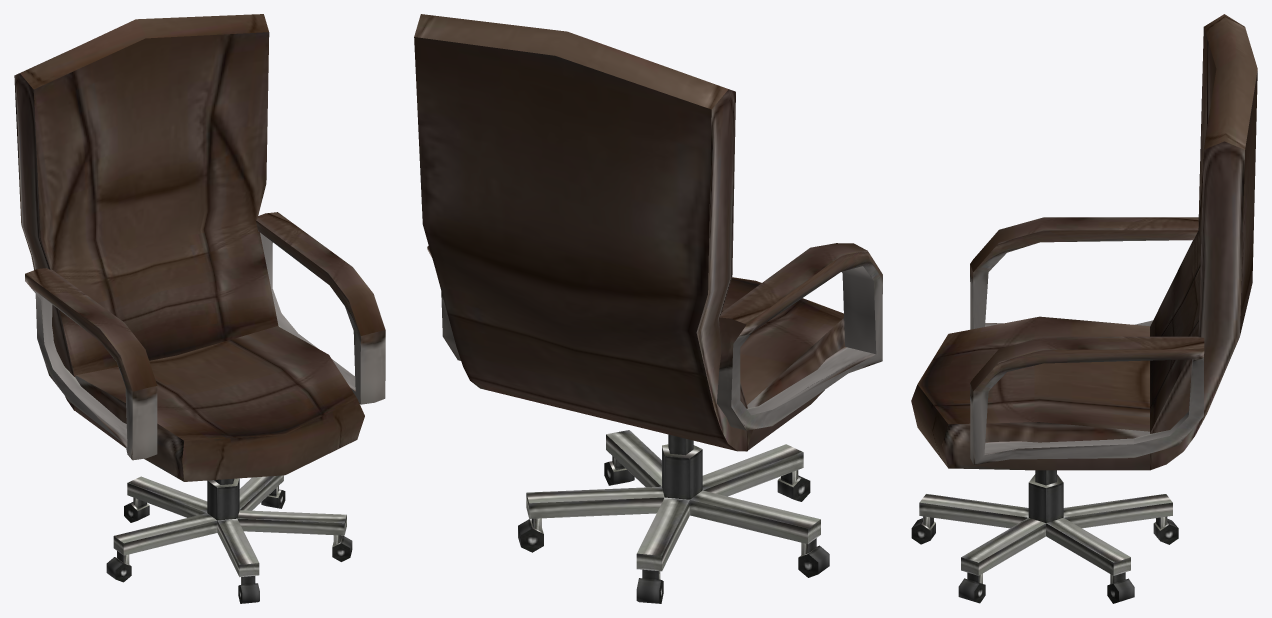
The model's file is Office Chair 2_lod1.fbx.
3 renders of one model, left to right at view 1: azimuth 30°, elevation 25°; view 2: azimuth 150°, elevation 25°; view 3: azimuth 270°, elevation 25°, orthographic. The views are drawn at different scales.
Parts seen in each view (by area): view 1: Chair_Back, Chair_Seat, Left_Arm_Rest, Chair_Stand, Right_Arm_Rest, Wheel4, Wheel5; view 2: Chair_Back, Chair_Stand, Left_Arm_Rest, Chair_Seat, Wheel4, Wheel1, Wheel5, Wheel2; view 3: Chair_Back, Chair_Seat, Right_Arm_Rest, Chair_Stand, Left_Arm_Rest, Wheel2, Wheel3, Wheel1, Wheel5.
Part boxes in pixels (bbox=[...]): Chair_Back: bbox=[14, 14, 278, 410]; Chair_Seat: bbox=[74, 326, 364, 481]; Left_Arm_Rest: bbox=[25, 268, 157, 460]; Chair_Stand: bbox=[113, 475, 346, 577]; Right_Arm_Rest: bbox=[255, 212, 385, 404]; Wheel4: bbox=[106, 551, 131, 582]; Wheel5: bbox=[238, 576, 259, 603]; Chair_Back: bbox=[414, 14, 747, 451]; Chair_Stand: bbox=[526, 430, 820, 571]; Left_Arm_Rest: bbox=[717, 243, 882, 430]; Chair_Seat: bbox=[722, 277, 844, 451]; Wheel4: bbox=[798, 538, 829, 577]; Wheel1: bbox=[636, 569, 663, 603]; Wheel5: bbox=[777, 470, 810, 501]; Wheel2: bbox=[518, 518, 543, 552]; Chair_Back: bbox=[1150, 14, 1257, 470]; Chair_Seat: bbox=[911, 316, 1149, 470]; Right_Arm_Rest: bbox=[970, 336, 1204, 464]; Chair_Stand: bbox=[919, 470, 1172, 575]; Left_Arm_Rest: bbox=[970, 217, 1198, 329]; Wheel2: bbox=[1107, 572, 1134, 603]; Wheel3: bbox=[958, 572, 985, 603]; Wheel1: bbox=[1153, 516, 1178, 544]; Wheel5: bbox=[911, 516, 935, 544].
Size of the model in its own units: 2.09 by 3.62 by 2.27.
